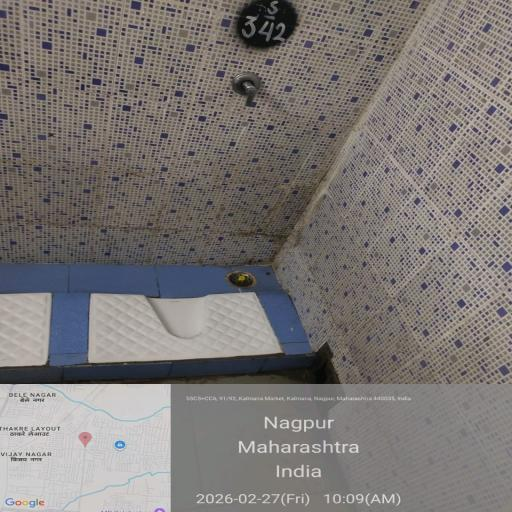clean_floor: (45, 307, 478, 499), (48, 34, 443, 241)
clean_indian: (80, 280, 291, 357)
